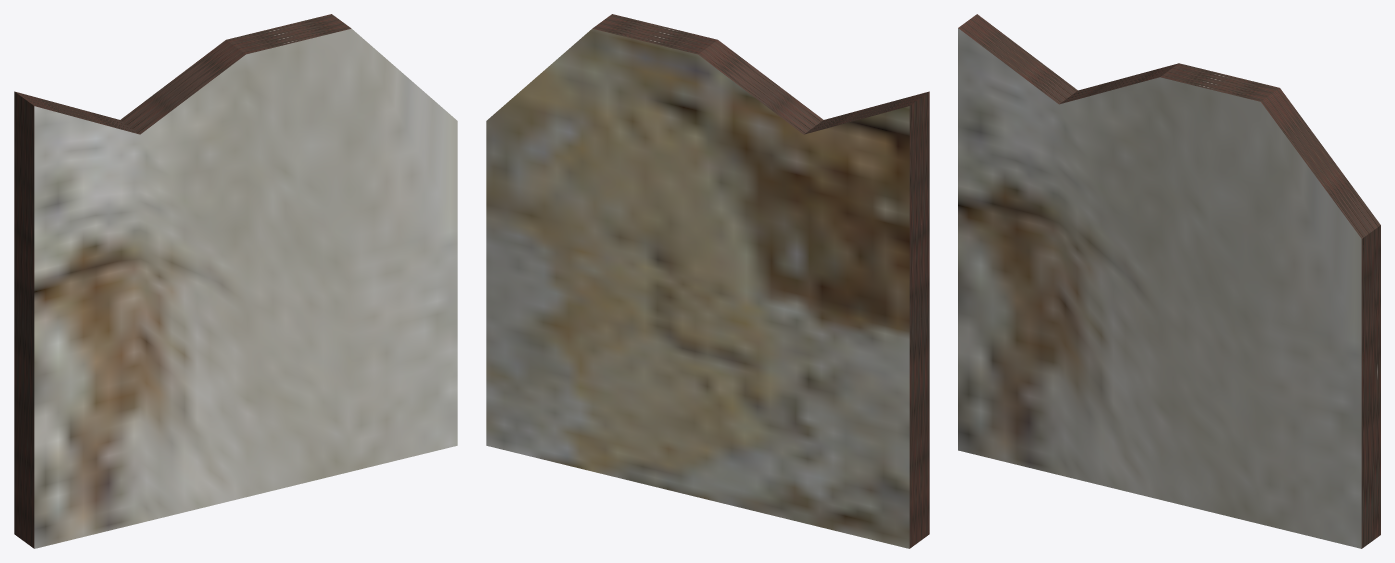
Rendered from Wall Mesh_1.fbx.
The picture shows the model from 3 angles, left to right: view 1: azimuth 30°, elevation 25°; view 2: azimuth 150°, elevation 25°; view 3: azimuth 330°, elevation 25°; orthographic projection. The views are drawn at different scales.
Parts seen in each view (by area): view 1: Wall_mesh 1; view 2: Wall_mesh 1; view 3: Wall_mesh 1.
Boxes of the visible parts, x1=… form: Wall_mesh 1: x1=14, y1=14, x2=457, y2=548; Wall_mesh 1: x1=486, y1=14, x2=929, y2=548; Wall_mesh 1: x1=958, y1=14, x2=1380, y2=548.
Bounding box in the file's own units: 200 × 200 × 16.4.
